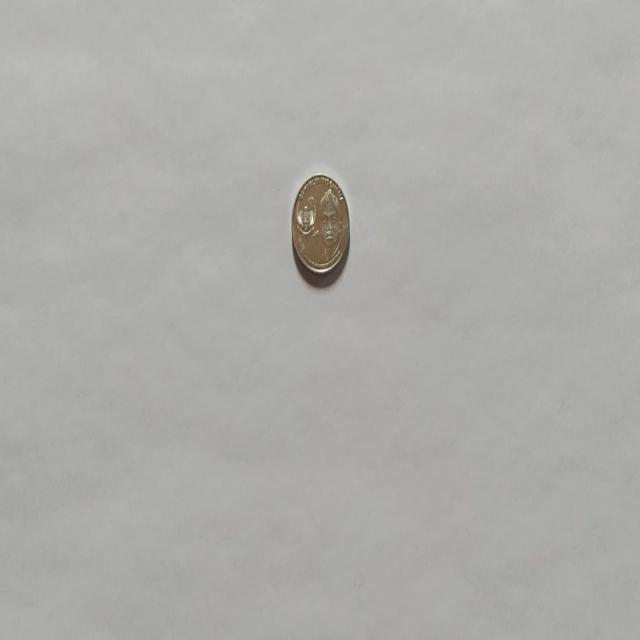dua ratus rupiah: (290, 172, 350, 276)
